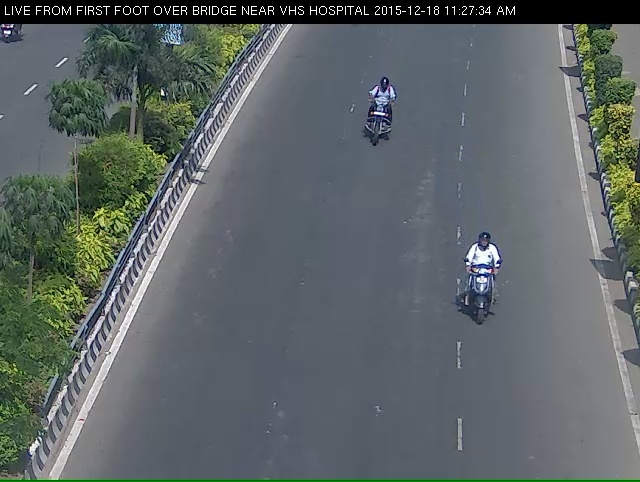Person: (459, 252, 508, 355), (353, 92, 395, 175)
